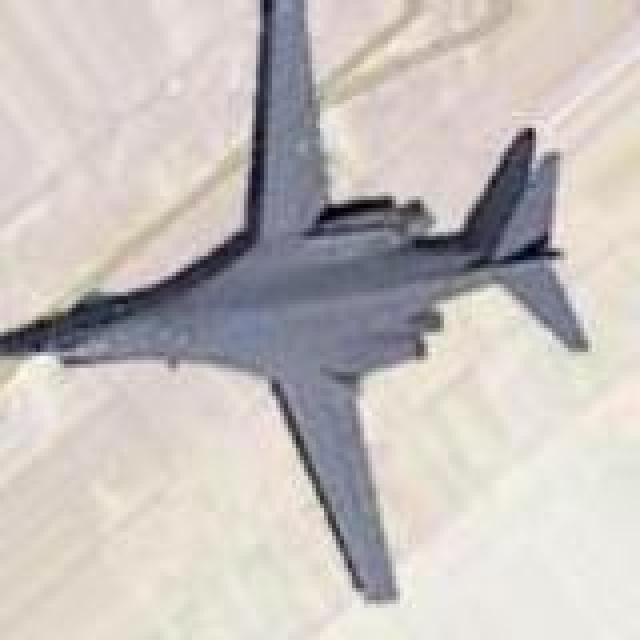B-1_TopDown: (0, 0, 592, 604)
